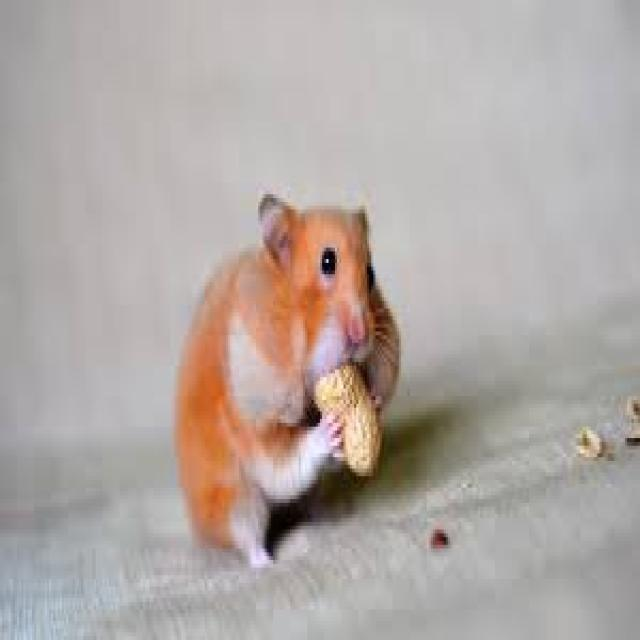hamster: (166, 167, 405, 574)
